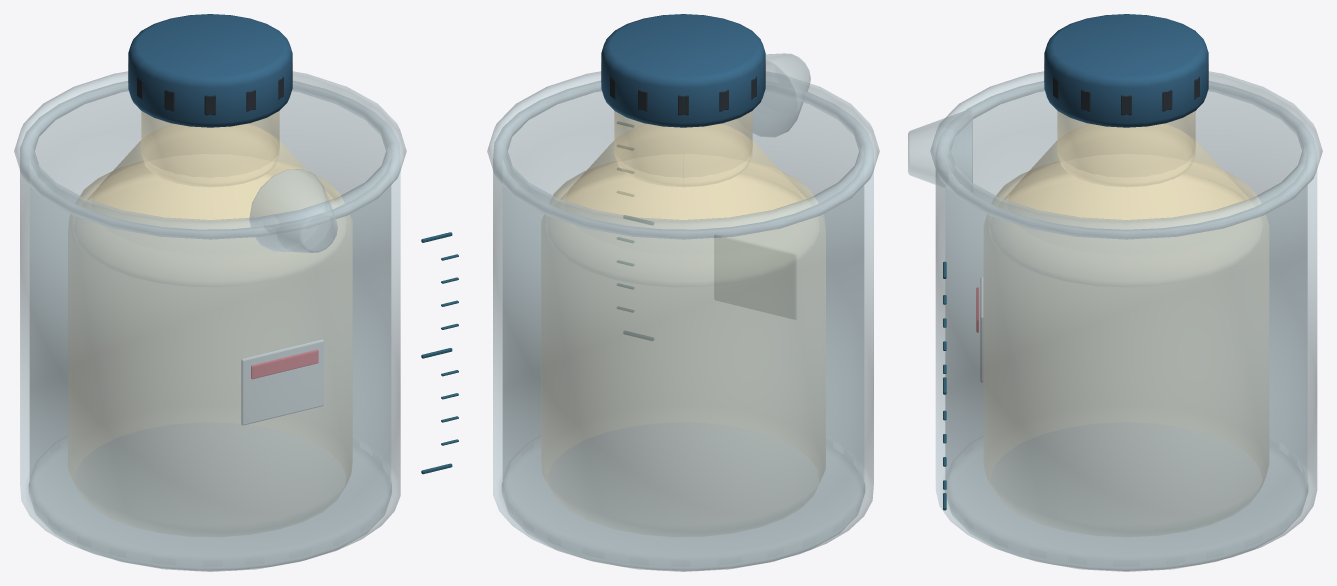
The model's file is science-lab-kit.glb.
3 views of the same model, side by side, from view 1: azimuth 30°, elevation 25°; view 2: azimuth 150°, elevation 25°; view 3: azimuth 270°, elevation 25° (orthographic).
Visible parts, largest first — view 1: BEAKER_GLASS_WALL, BOTTLE_BODY, BOTTLE_SHOULDER, BEAKER_GLASS_BASE, BOTTLE_CAP, BEAKER_ROLLED_RIM, BOTTLE_NECK, BEAKER_SPOUT, BOTTLE_LABEL, BOTTLE_LABEL_STRIPE; view 2: BEAKER_GLASS_WALL, BOTTLE_BODY, BOTTLE_SHOULDER, BEAKER_GLASS_BASE, BOTTLE_CAP, BEAKER_ROLLED_RIM, BOTTLE_NECK, BOTTLE_LABEL, BEAKER_SPOUT; view 3: BEAKER_GLASS_WALL, BOTTLE_BODY, BOTTLE_SHOULDER, BEAKER_GLASS_BASE, BOTTLE_CAP, BEAKER_ROLLED_RIM, BOTTLE_NECK, BEAKER_SPOUT.
Part boxes in pixels (x1,y1,x2,y2): BEAKER_GLASS_WALL: (20, 81, 400, 570); BOTTLE_BODY: (68, 161, 352, 536); BOTTLE_SHOULDER: (88, 124, 332, 254); BEAKER_GLASS_BASE: (29, 436, 391, 571); BOTTLE_CAP: (128, 14, 292, 127); BEAKER_ROLLED_RIM: (14, 71, 406, 239); BOTTLE_NECK: (141, 111, 279, 186); BEAKER_SPOUT: (249, 169, 337, 252); BOTTLE_LABEL: (241, 339, 323, 425); BOTTLE_LABEL_STRIPE: (251, 349, 318, 379); BEAKER_GLASS_WALL: (493, 81, 873, 570); BOTTLE_BODY: (541, 161, 825, 536); BOTTLE_SHOULDER: (561, 124, 805, 254); BEAKER_GLASS_BASE: (502, 436, 864, 571); BOTTLE_CAP: (601, 14, 765, 127); BEAKER_ROLLED_RIM: (487, 71, 879, 239); BOTTLE_NECK: (614, 111, 752, 186); BOTTLE_LABEL: (714, 234, 796, 318); BEAKER_SPOUT: (735, 53, 810, 137); BEAKER_GLASS_WALL: (935, 81, 1317, 570); BOTTLE_BODY: (984, 161, 1268, 536); BOTTLE_SHOULDER: (1004, 124, 1248, 254); BEAKER_GLASS_BASE: (945, 436, 1307, 571); BOTTLE_CAP: (1044, 14, 1208, 127); BEAKER_ROLLED_RIM: (930, 71, 1322, 239); BOTTLE_NECK: (1057, 111, 1195, 186); BEAKER_SPOUT: (908, 108, 972, 192).
Size of the model in its own units: 0.908 by 1.15 by 0.959.
